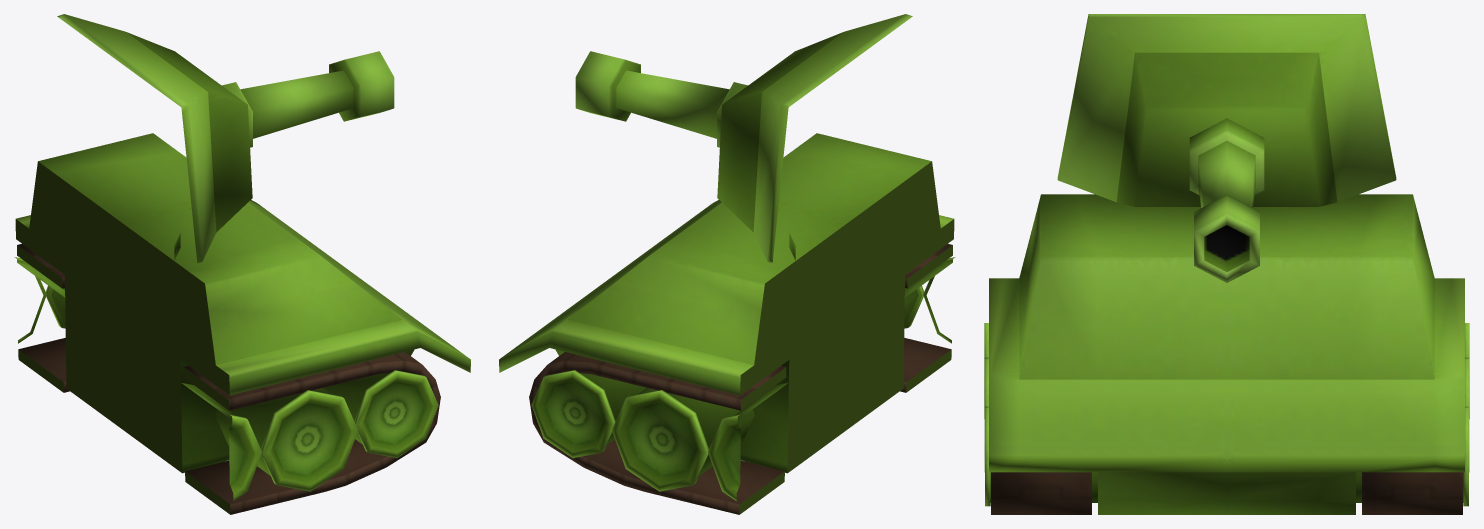
File: panzer_left.glb
3 views of the same model, side by side, from view 1: azimuth 30°, elevation 25°; view 2: azimuth 150°, elevation 25°; view 3: azimuth 270°, elevation 25° (orthographic). The views are drawn at different scales.
Visible parts, largest first — view 1: panzer_left; view 2: panzer_left; view 3: panzer_left.
Boxes of the visible parts, x1,y1,x2,y2 form: panzer_left: (14, 14, 470, 514); panzer_left: (499, 14, 955, 514); panzer_left: (984, 14, 1469, 514).
Bounding box in the file's own units: 0.6149 × 0.8513 × 0.8916.
1 material, 1 textured.
